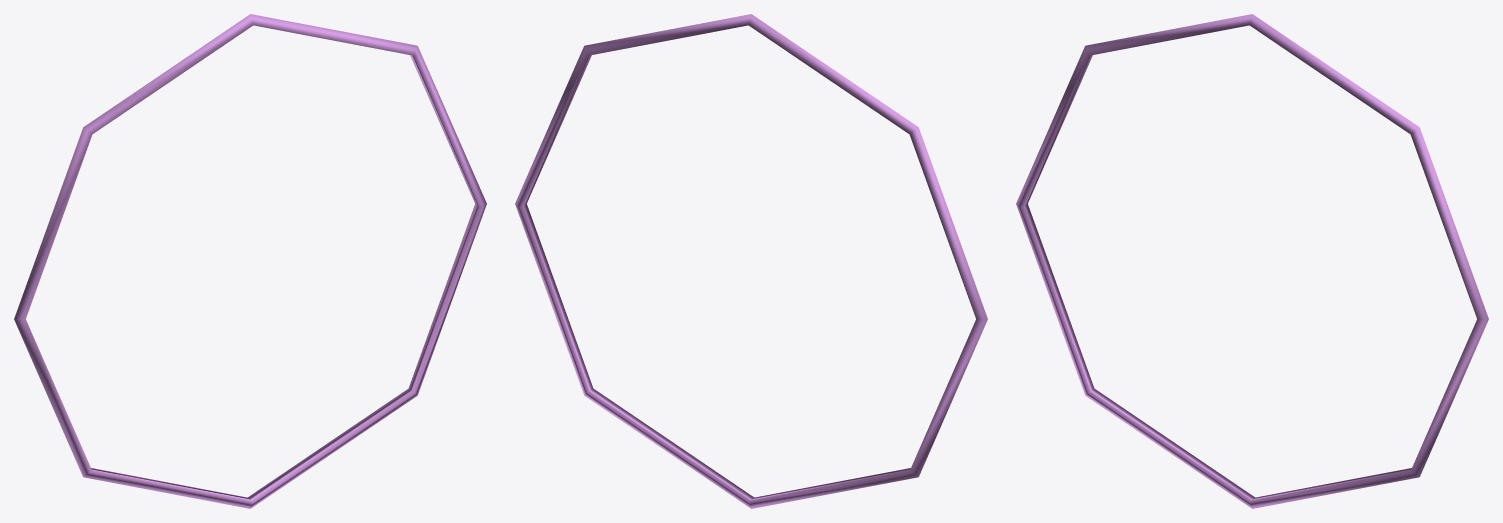
Rendered from ringcol.dae.
The picture shows the model from 3 angles, left to right: view 1: azimuth 30°, elevation 25°; view 2: azimuth 150°, elevation 25°; view 3: azimuth 330°, elevation 25°; orthographic projection.
Parts seen in each view (by area): view 1: Torus02; view 2: Torus02; view 3: Torus02.
Boxes of the visible parts, left/top/right/bottom form: Torus02: left=14, top=14, right=486, bottom=508; Torus02: left=515, top=14, right=987, bottom=508; Torus02: left=1016, top=14, right=1488, bottom=508.
Bounding box in the file's own units: 63.02 × 1.36 × 63.02.
